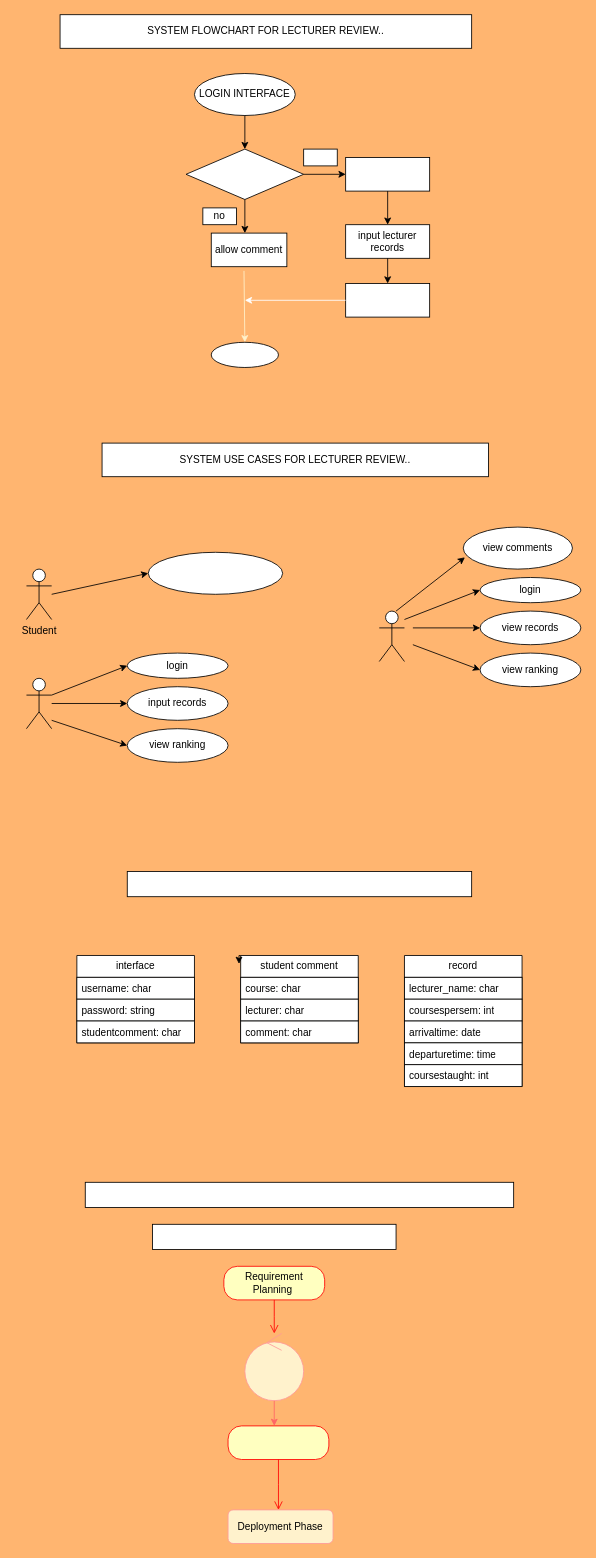
The diagram is 596 pixels wide and 1558 high, and some of its shapes have lost their labels. The shapes that lost their labels are listed below. From the top down, each one's centre as x and y in pixels, then its label:
At point (244, 174): "if admin stuff".
At point (320, 157): "yes".
At point (387, 174): "allow login".
At point (387, 300): "submit record".
At point (244, 354): "END".
At point (215, 572): "add comments".
At point (391, 636): "admin".
At point (39, 703): "admin stuff".
At point (299, 884): "SYSTEM CLASSES AND OBJECT FOR LECTURER REVIEW...".
At point (299, 1194): "METHODOLOGY USED FOR THE REVIEW SYSTEM....".
At point (274, 1236): "RAD (RAPID APPLICATION DEVELOPMENT. )".
At point (274, 1367): "User Design (prototyping)".
At point (278, 1442): "Construction Phase".
